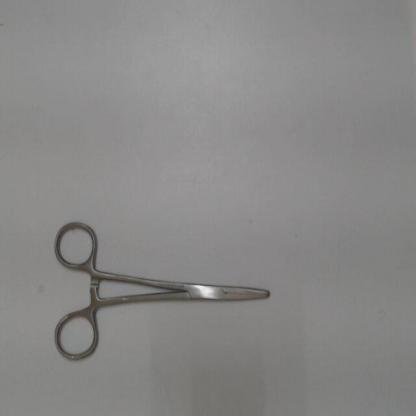Mayo Needle Holder: (49, 212, 284, 369)
